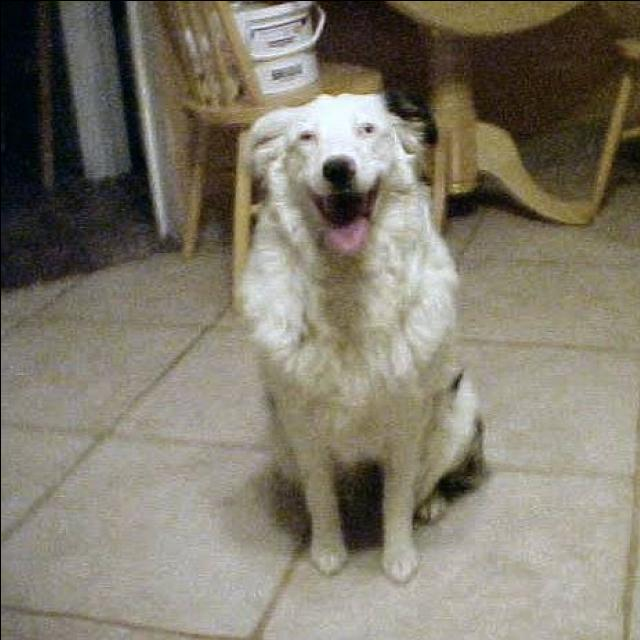dog: (208, 60, 507, 588)
